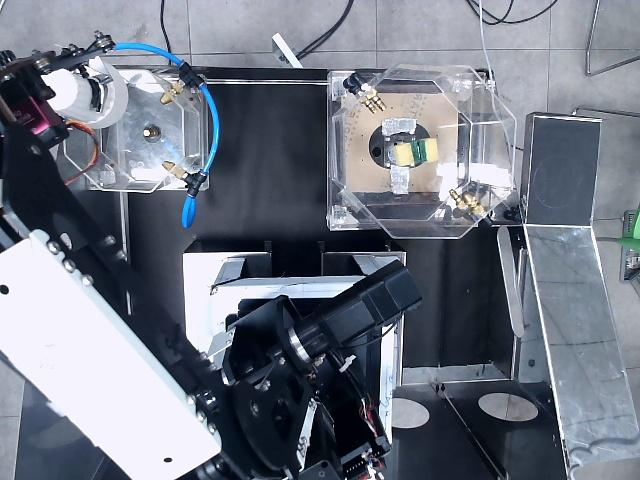cup: (43, 57, 128, 128)
